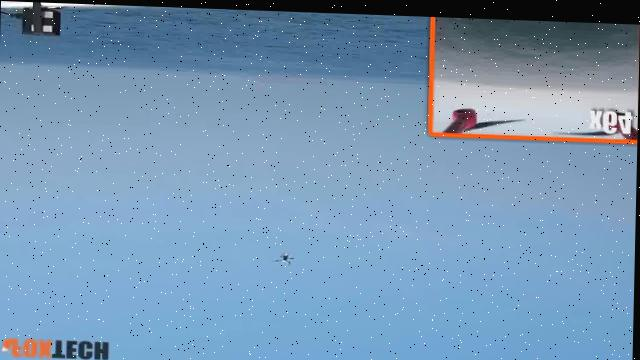drone: (249, 235, 320, 279)
